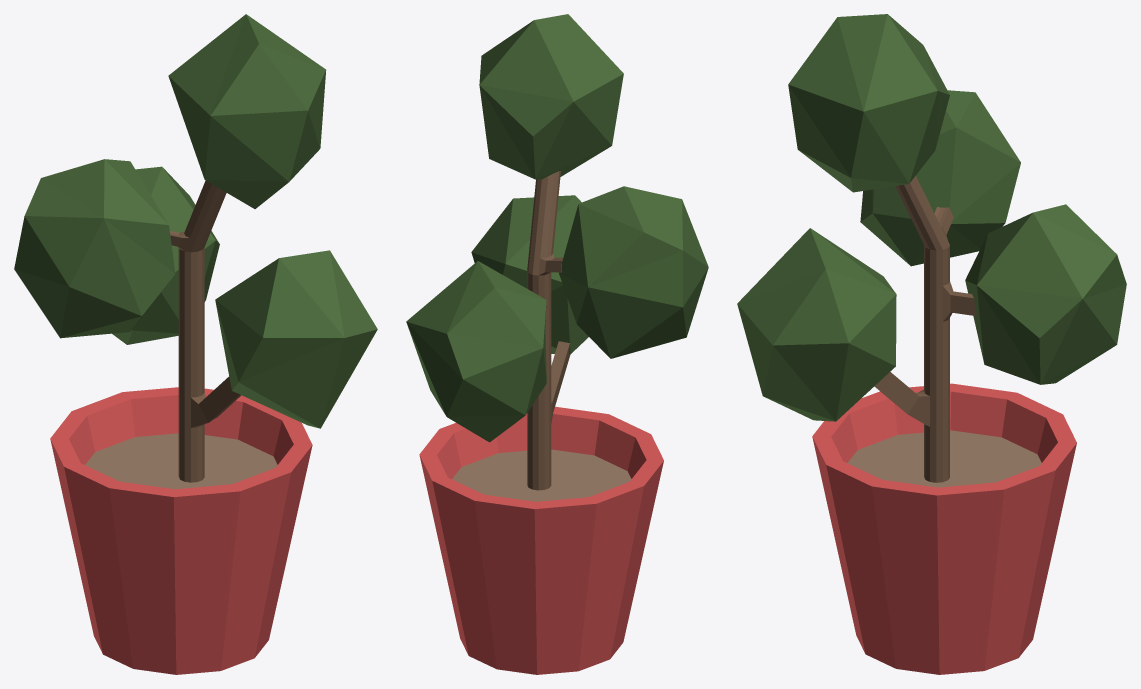
The model's file is BigPlanet.fbx.
3 renders of one model, left to right at view 1: azimuth 30°, elevation 25°; view 2: azimuth 150°, elevation 25°; view 3: azimuth 270°, elevation 25°, orthographic. The views are drawn at different scales.
Visible parts, largest first — view 1: DeskPlanet.002; view 2: DeskPlanet.002; view 3: DeskPlanet.002.
Part boxes in pixels (x1,y1,x2,y2): DeskPlanet.002: (14, 14, 377, 674); DeskPlanet.002: (406, 14, 708, 674); DeskPlanet.002: (737, 14, 1126, 674).
Size of the model in its own units: 201 by 433 by 238.
